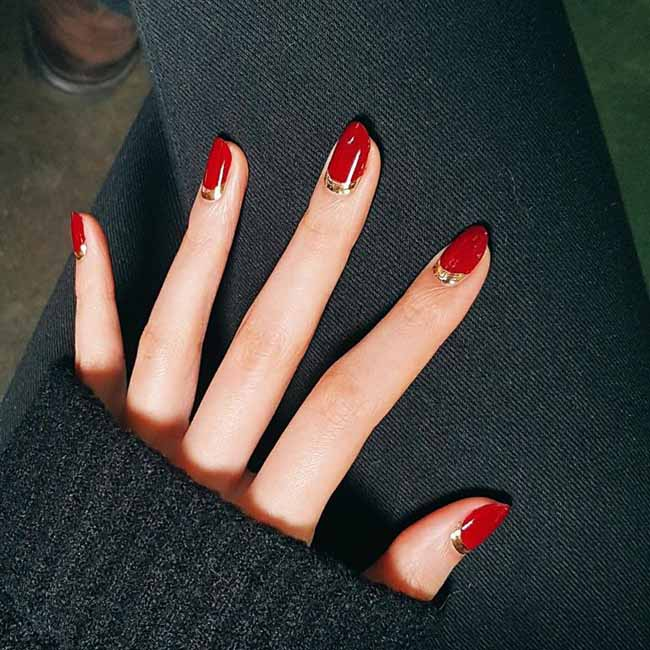nails: (430, 220, 493, 285), (449, 497, 511, 563), (323, 116, 371, 201), (198, 129, 233, 202), (60, 202, 94, 265)
